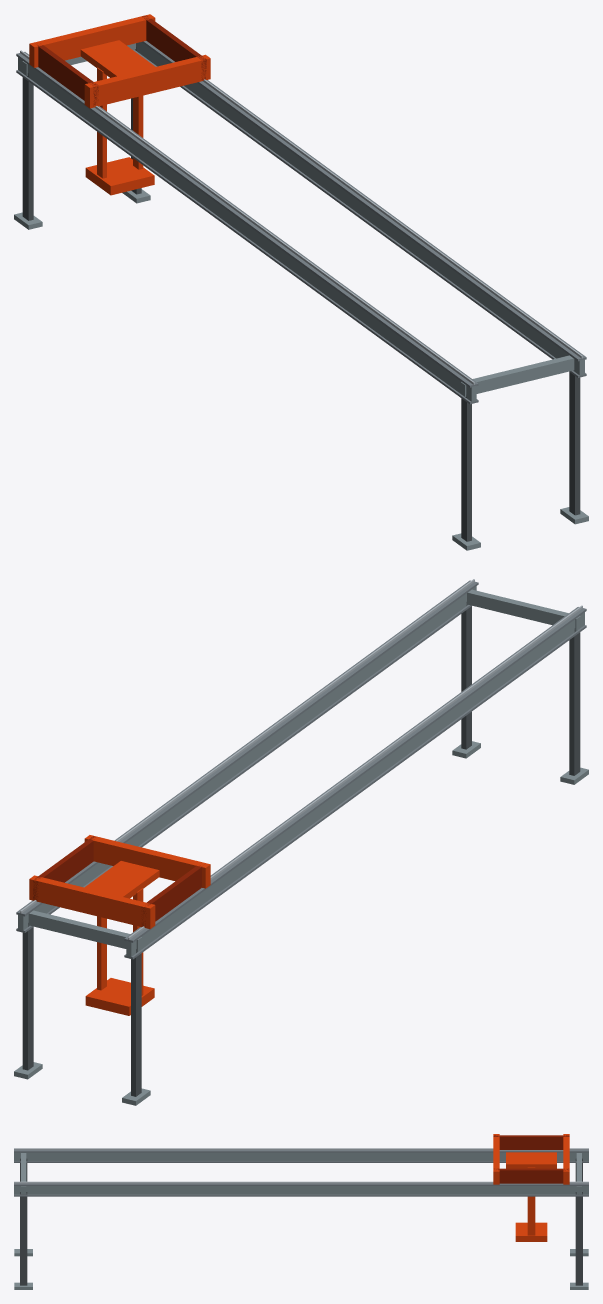
Rendered from parts_gantry.dae.
3 views of the same model, one above another, from view 1: azimuth 30°, elevation 25°; view 2: azimuth 150°, elevation 25°; view 3: azimuth 270°, elevation 25° (orthographic). The views are drawn at different scales.
Parts seen in each view (by area): view 1: parts_gantry; view 2: parts_gantry; view 3: parts_gantry.
Part boxes in pixels (x1,y1,x2,y2): parts_gantry: [14, 14, 588, 550]; parts_gantry: [14, 579, 588, 1105]; parts_gantry: [14, 1134, 588, 1289].
Bounding box in the file's own units: 2.47 × 15.88 × 3.6.
